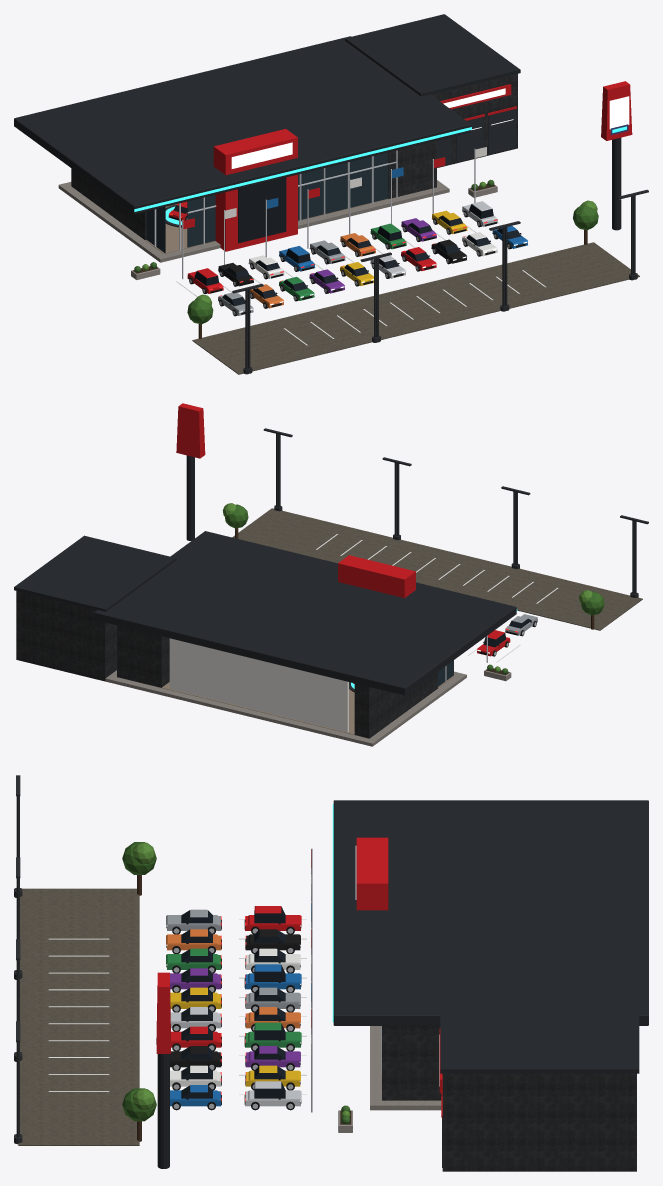
Rendered from OT_Dealership_A.glb.
3 renders of one model, top to bottom at view 1: azimuth 30°, elevation 25°; view 2: azimuth 150°, elevation 25°; view 3: azimuth 270°, elevation 25°, orthographic. The views are drawn at different scales.
Parts seen in each view (by area): view 1: OT_Dealership_A_DarkPanel__23262b, OT_Dealership_A_Pavement, OT_Dealership_A_OTRed__d0181e, OT_Dealership_A_ACMPanel, OT_Dealership_A_ShowGlass__24353f, OT_Dealership_A_CarGlass__141c24, OT_Dealership_A_Concrete, OT_Dealership_A_PortalHole__1a1e24, OT_Dealership_A_PoleDark__2a2c30, OT_Dealership_A_BayLit__2a2e36, OT_Dealership_A_Mullion__c9ccd1, OT_Dealership_A_NeonCyan__2fe0ff (+16 smaller); view 2: OT_Dealership_A_DarkPanel__23262b, OT_Dealership_A_Pavement, OT_Dealership_A_ACMPanel, OT_Dealership_A_BackWall__f2efe9, OT_Dealership_A_OTRed__d0181e, OT_Dealership_A_Concrete, OT_Dealership_A_PoleDark__2a2c30, OT_Dealership_A_Leaf__3f6e2c, OT_Dealership_A_Tile; view 3: OT_Dealership_A_DarkPanel__23262b, OT_Dealership_A_Pavement, OT_Dealership_A_ACMPanel, OT_Dealership_A_CarGlass__141c24, OT_Dealership_A_OTRed__d0181e, OT_Dealership_A_PoleDark__2a2c30, OT_Dealership_A_Concrete, OT_Dealership_A_Tire__151515, OT_Dealership_A_Car2f8a4a__2f8a4a, OT_Dealership_A_Car1f6db0__1f6db0, OT_Dealership_A_Carc9ccd1__c9ccd1, OT_Dealership_A_Card0181e__d0181e (+11 smaller).
Part boxes in pixels (x1,y1,x2,y2): OT_Dealership_A_DarkPanel__23262b: [14, 14, 621, 230]; OT_Dealership_A_Pavement: [192, 242, 639, 374]; OT_Dealership_A_OTRed__d0181e: [183, 81, 632, 251]; OT_Dealership_A_ACMPanel: [71, 74, 517, 239]; OT_Dealership_A_ShowGlass__24353f: [146, 152, 388, 253]; OT_Dealership_A_CarGlass__141c24: [173, 204, 521, 306]; OT_Dealership_A_Concrete: [58, 180, 449, 262]; OT_Dealership_A_PortalHole__1a1e24: [238, 177, 286, 243]; OT_Dealership_A_PoleDark__2a2c30: [232, 189, 648, 374]; OT_Dealership_A_BayLit__2a2e36: [437, 109, 515, 164]; OT_Dealership_A_Mullion__c9ccd1: [154, 149, 475, 279]; OT_Dealership_A_NeonCyan__2fe0ff: [134, 126, 626, 224]; OT_Dealership_A_DarkPanel__23262b: [14, 455, 516, 695]; OT_Dealership_A_Pavement: [232, 508, 642, 630]; OT_Dealership_A_ACMPanel: [16, 591, 437, 738]; OT_Dealership_A_BackWall__f2efe9: [169, 638, 348, 732]; OT_Dealership_A_OTRed__d0181e: [176, 403, 415, 598]; OT_Dealership_A_Concrete: [105, 670, 466, 746]; OT_Dealership_A_PoleDark__2a2c30: [263, 428, 648, 597]; OT_Dealership_A_Leaf__3f6e2c: [225, 504, 604, 615]; OT_Dealership_A_Tile: [150, 675, 454, 737]; OT_Dealership_A_DarkPanel__23262b: [157, 800, 648, 1168]; OT_Dealership_A_Pavement: [18, 888, 139, 1145]; OT_Dealership_A_ACMPanel: [382, 1026, 636, 1171]; OT_Dealership_A_CarGlass__141c24: [181, 906, 285, 1098]; OT_Dealership_A_OTRed__d0181e: [156, 837, 442, 1117]; OT_Dealership_A_PoleDark__2a2c30: [14, 775, 22, 1144]; OT_Dealership_A_Concrete: [370, 1026, 441, 1110]; OT_Dealership_A_Tire__151515: [172, 926, 294, 1110]; OT_Dealership_A_Car2f8a4a__2f8a4a: [166, 948, 301, 1047]; OT_Dealership_A_Car1f6db0__1f6db0: [170, 964, 301, 1106]; OT_Dealership_A_Carc9ccd1__c9ccd1: [170, 1007, 301, 1106]; OT_Dealership_A_Card0181e__d0181e: [171, 906, 301, 1047].
Size of the model in its own units: 56.3 by 17 by 52.35.
Materials: 55 (6 with a texture image).
